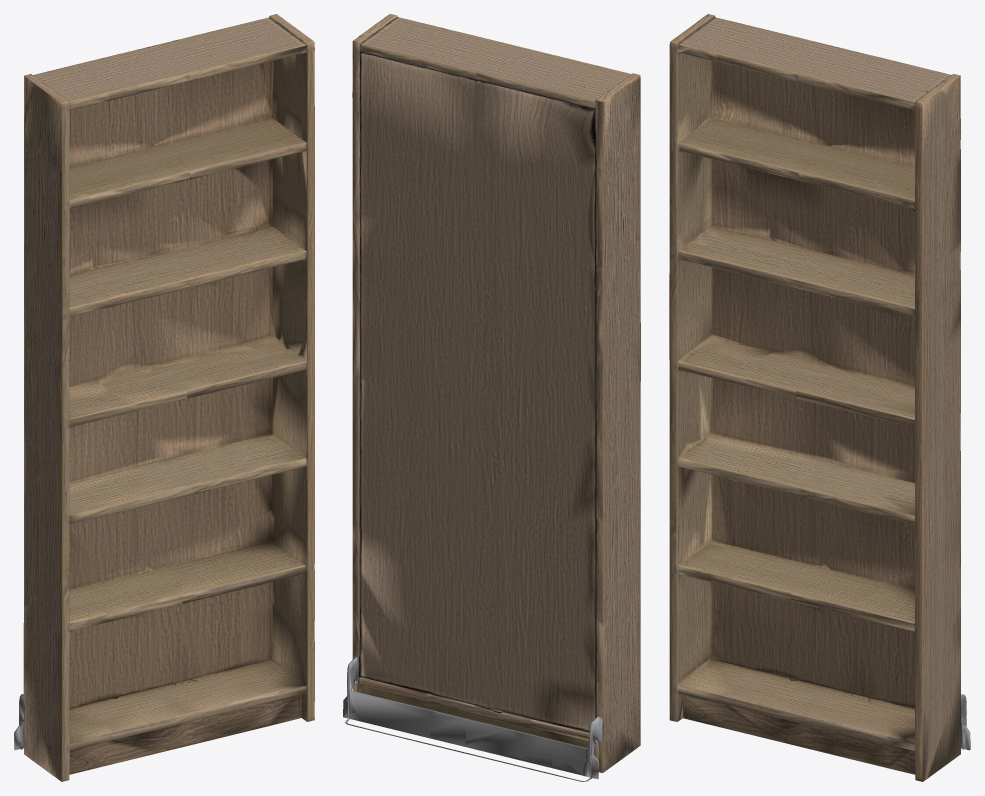
The model's file is billy-bookcase.glb.
The picture shows the model from 3 angles, left to right: view 1: azimuth 30°, elevation 25°; view 2: azimuth 150°, elevation 25°; view 3: azimuth 330°, elevation 25°; orthographic projection.
Visible parts, largest first — view 1: tripo_node_0ef83e07-8b70-4845-b4da-d3a12a4a0c18; view 2: tripo_node_0ef83e07-8b70-4845-b4da-d3a12a4a0c18; view 3: tripo_node_0ef83e07-8b70-4845-b4da-d3a12a4a0c18.
Boxes of the visible parts, x1,y1,x2,y2 form: tripo_node_0ef83e07-8b70-4845-b4da-d3a12a4a0c18: (14,14,314,781); tripo_node_0ef83e07-8b70-4845-b4da-d3a12a4a0c18: (343,14,640,781); tripo_node_0ef83e07-8b70-4845-b4da-d3a12a4a0c18: (669,14,970,781).
Size of the model in its own units: 0.8 by 2.02 by 0.2799.
1 material, 1 textured.
